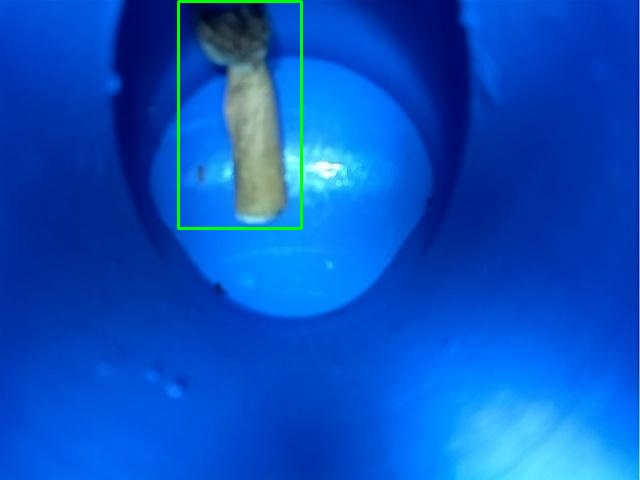megot: (178, 1, 301, 228)
